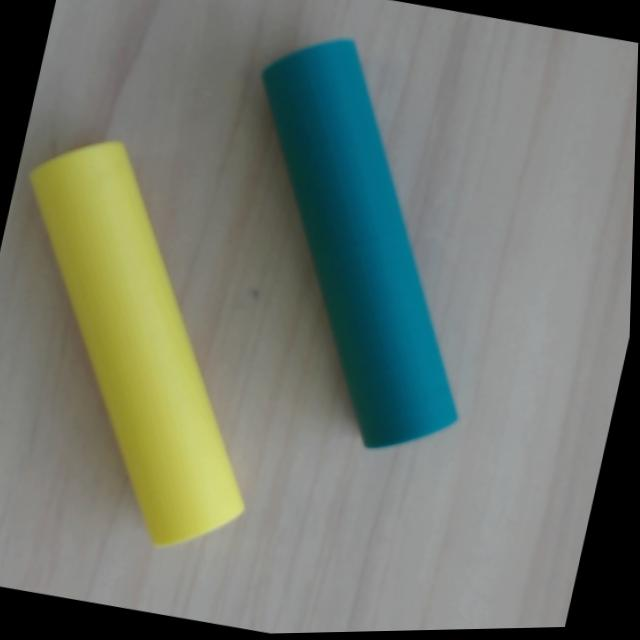Silinder-Hijau-10025: (258, 34, 460, 452)
Silinder-Kuning-10025: (26, 134, 249, 551)
